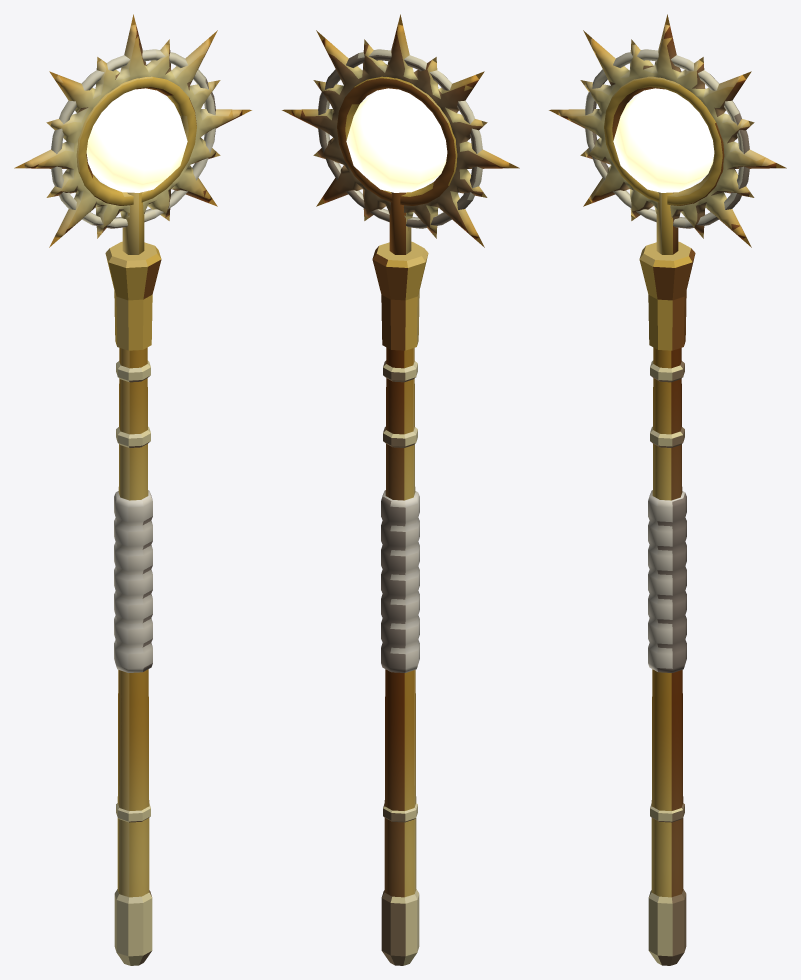
File: sc_halo_scepter.glb
3 renders of one model, left to right at view 1: azimuth 30°, elevation 25°; view 2: azimuth 150°, elevation 25°; view 3: azimuth 330°, elevation 25°, orthographic.
Visible parts, largest first — view 1: Weapon; view 2: Weapon; view 3: Weapon.
Part boxes in pixels (left/top/right/bottom): Weapon: left=14, top=14, right=251, bottom=965; Weapon: left=282, top=14, right=519, bottom=965; Weapon: left=549, top=14, right=786, bottom=965.
Bounding box in the file's own units: 0.38 × 1.44 × 0.1427.
